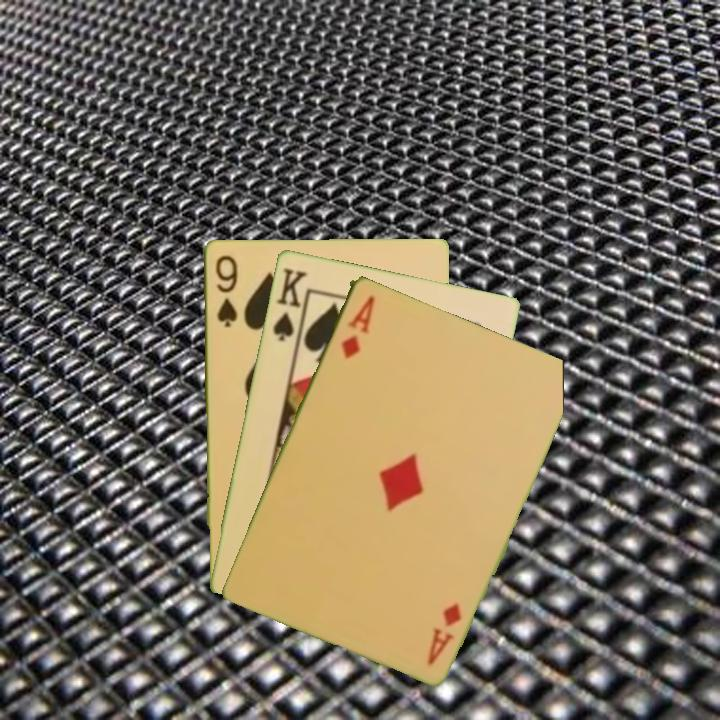9s: (212, 251, 240, 329)
Ad: (337, 291, 378, 361), (423, 599, 464, 668)
Ks: (269, 264, 310, 347)
